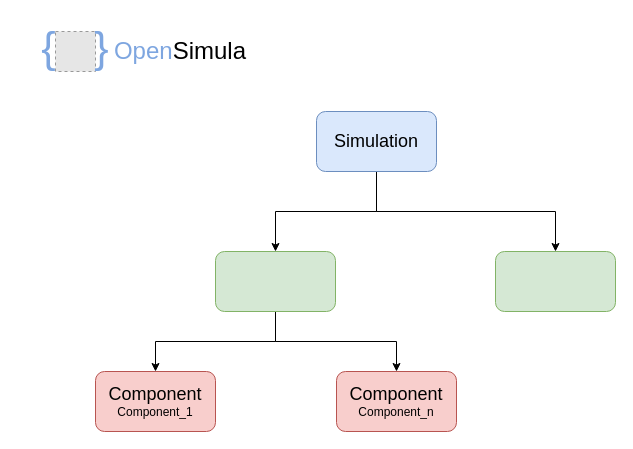
The diagram is 633 pixels wide and 449 high, and some of its shapes have lost their labels. Grey dashed boxes stand in for pictures. The shapes that lost their labels are listed below. From the top down, each one's centre as x and y in pixels, then its label:
(x=275, y=281): Project Project_1
(x=555, y=281): Project Project_n
